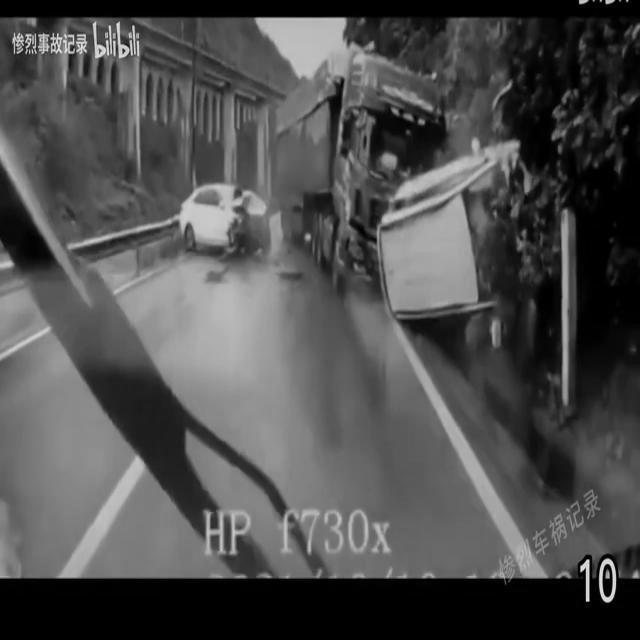accident: (278, 61, 540, 319), (174, 175, 272, 265)
